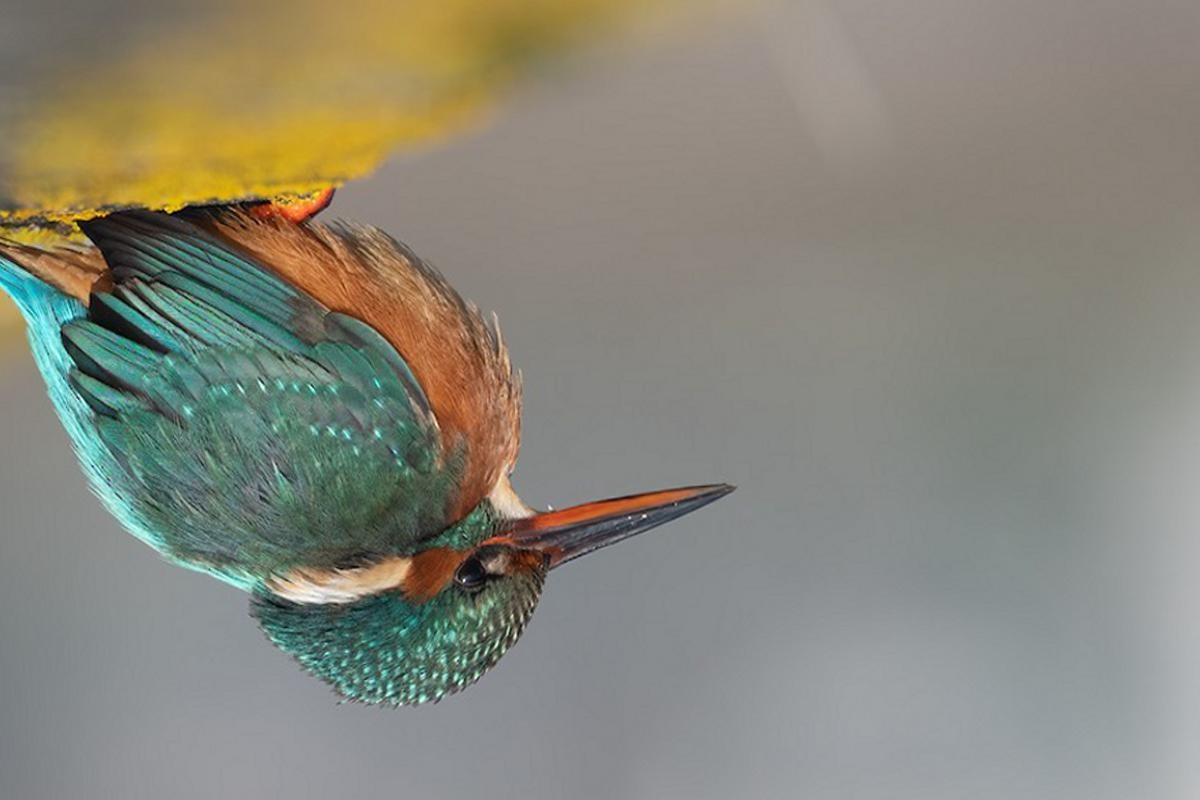kingfisher: (1, 146, 750, 726)
